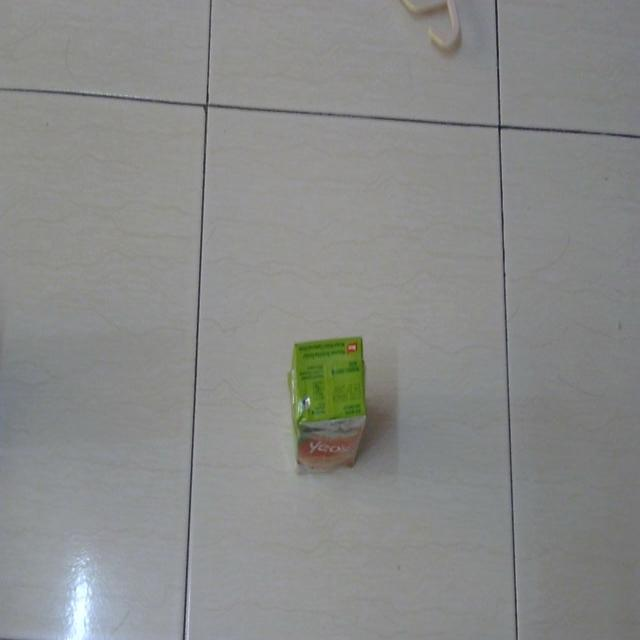plastic_standrotation: (286, 332, 374, 474)
